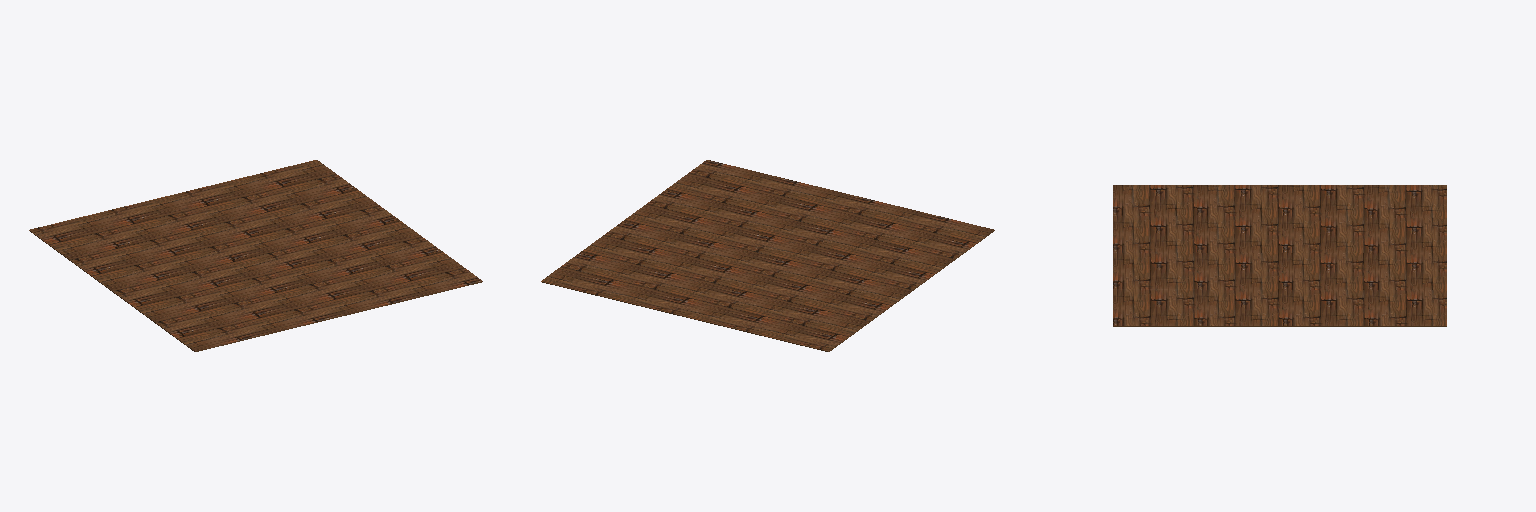
3 views of the same model, side by side, from view 1: azimuth 30°, elevation 25°; view 2: azimuth 150°, elevation 25°; view 3: azimuth 270°, elevation 25° (orthographic).
Visible parts, largest first — view 1: Floor_Cube.001; view 2: Floor_Cube.001; view 3: Floor_Cube.001.
Part boxes in pixels (left/top/right/bottom): Floor_Cube.001: left=29, top=160, right=482, bottom=351; Floor_Cube.001: left=541, top=160, right=994, bottom=351; Floor_Cube.001: left=1113, top=185, right=1446, bottom=326.
Size of the model in its own units: 42.62 by 0.0914 by 42.62.
Materials: 1 (1 with a texture image).